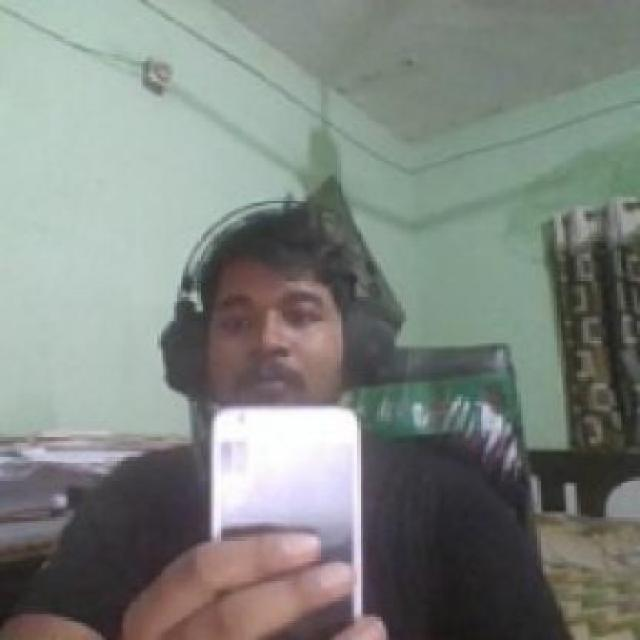Phone: (210, 407, 364, 640)
